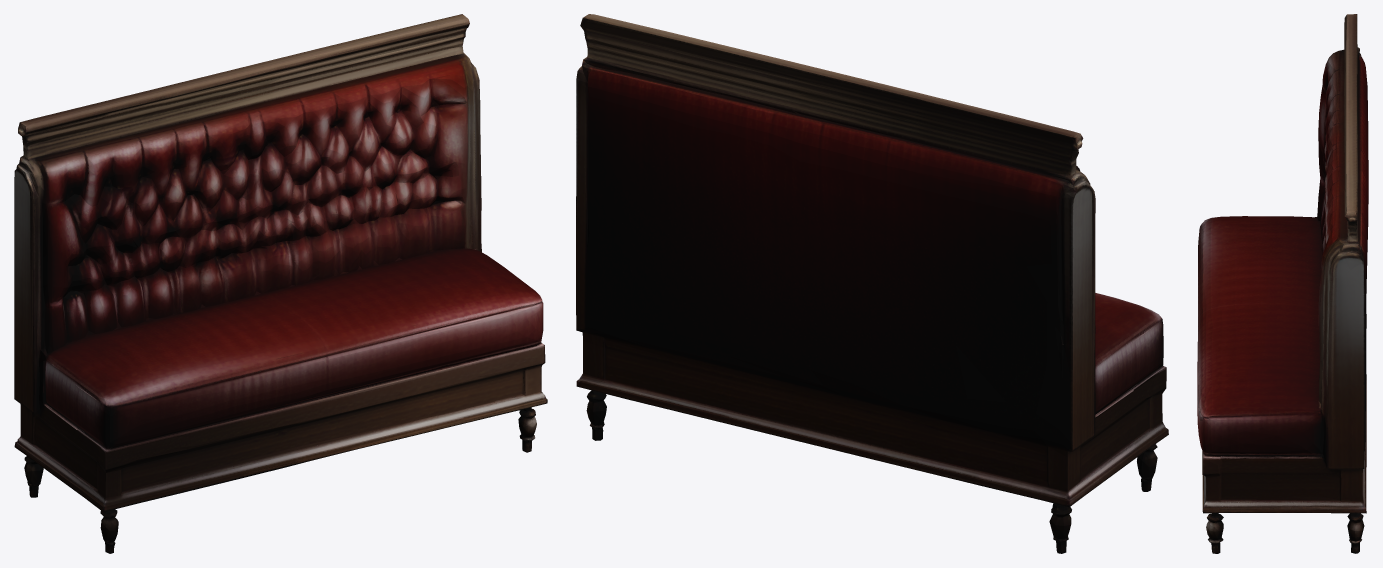
Rendered from trellis_1789137505441_z1yps.glb.
The picture shows the model from 3 angles, left to right: view 1: azimuth 30°, elevation 25°; view 2: azimuth 150°, elevation 25°; view 3: azimuth 270°, elevation 25°; orthographic projection. The views are drawn at different scales.
Parts seen in each view (by area): view 1: world; view 2: world; view 3: world.
Boxes of the visible parts, box(x1,y1,x2,y2) form: world: box(14, 14, 547, 553); world: box(576, 14, 1168, 553); world: box(1197, 14, 1368, 553).
Size of the model in its own units: 1 by 0.8047 by 0.3607.
Materials: 1 (1 with a texture image).
